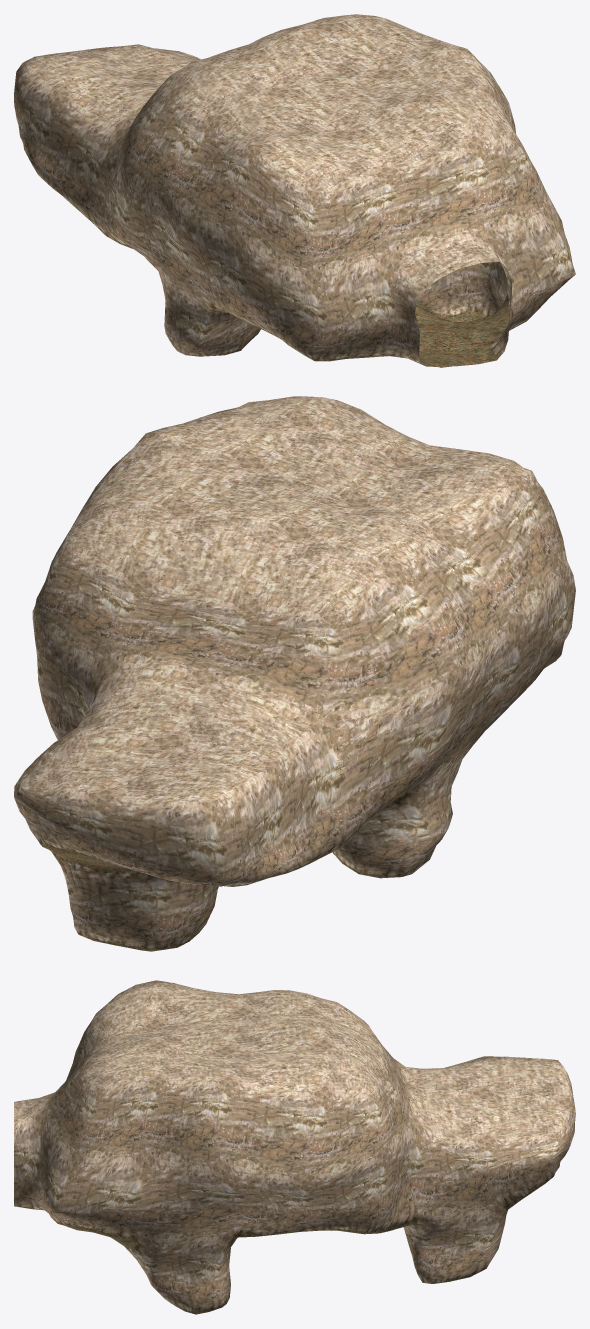
File: thm_all_cave_flatland_s01_r7_mesh_r7.fbx
The picture shows the model from 3 angles, top to bottom: view 1: azimuth 30°, elevation 25°; view 2: azimuth 150°, elevation 25°; view 3: azimuth 270°, elevation 25°; orthographic projection. The views are drawn at different scales.
Visible parts, largest first — view 1: mesh_node; view 2: mesh_node; view 3: mesh_node.
Part boxes in pixels (box(x1,y1,x2,y2)): mesh_node: box(14, 14, 575, 367); mesh_node: box(14, 396, 575, 951); mesh_node: box(14, 980, 575, 1314).
Bounding box in the file's own units: 38.19 × 31.19 × 64.55.
